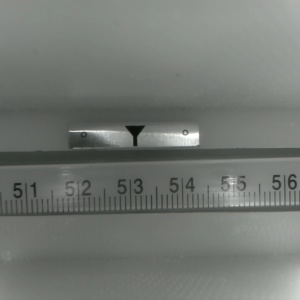2: (81, 180, 91, 195)
3: (133, 178, 142, 194)
4: (184, 177, 195, 192)
5: (64, 181, 75, 196), (168, 177, 178, 193), (116, 178, 126, 194), (271, 174, 281, 190), (236, 176, 246, 191), (221, 176, 231, 191), (14, 182, 23, 198)
6: (287, 173, 297, 190)
finger: (123, 126, 145, 147)
